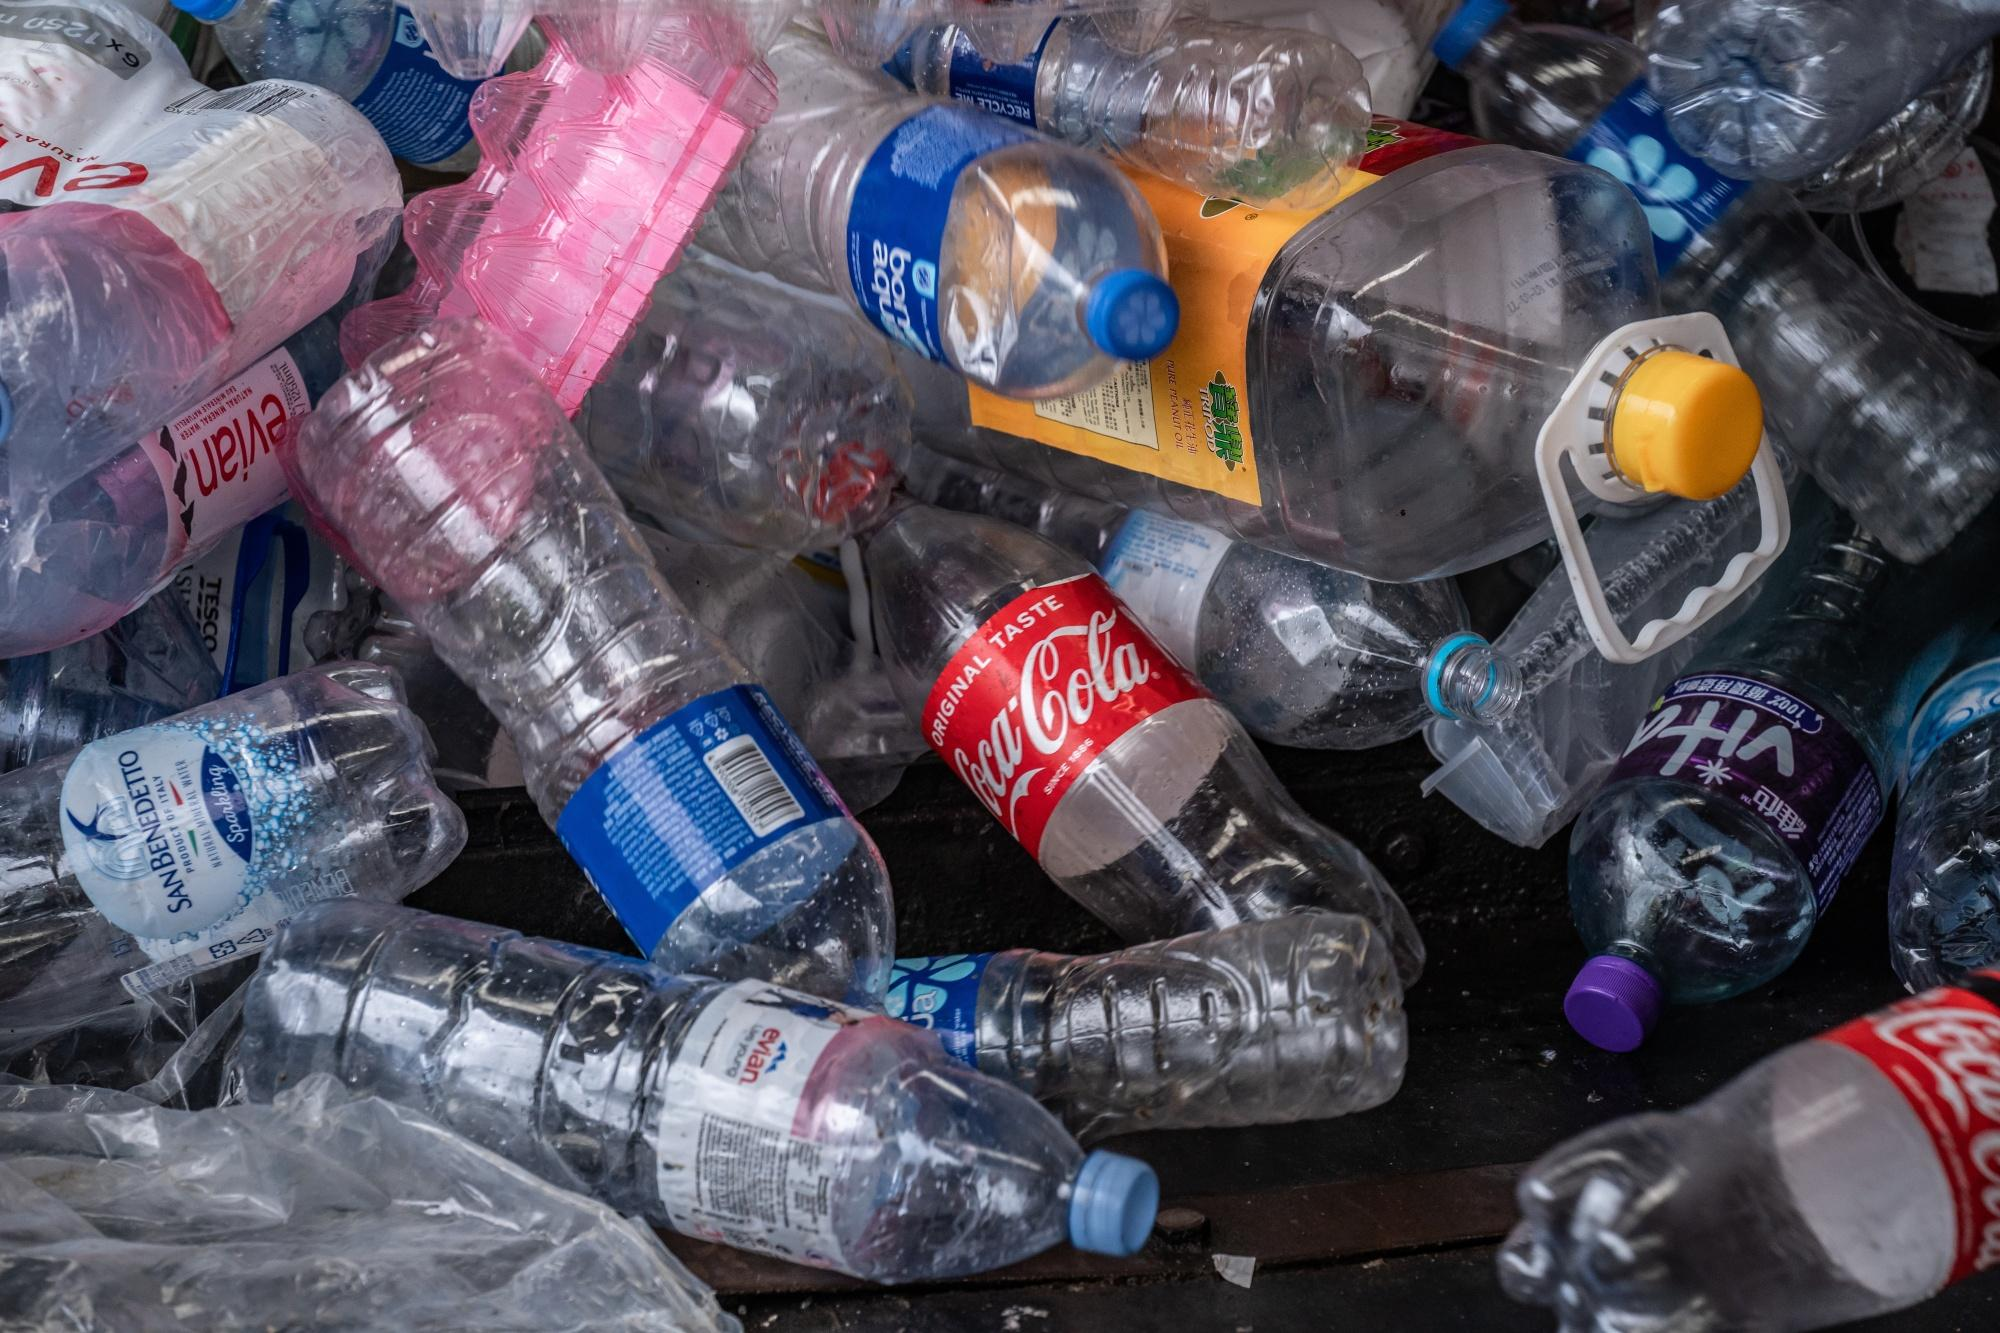plastic: (210, 893, 1386, 1294), (935, 129, 1789, 656), (315, 327, 870, 980), (837, 440, 1521, 963), (1425, 0, 2000, 619), (1417, 577, 2000, 1041), (726, 0, 1356, 373), (1515, 963, 2000, 1333), (3, 680, 451, 1021)
